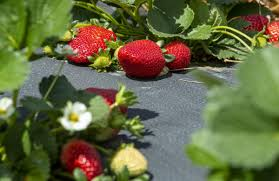ripe: (64, 17, 116, 68), (118, 37, 168, 82), (58, 140, 106, 181), (234, 10, 275, 45), (160, 36, 196, 75)
unripe: (112, 146, 150, 178)
